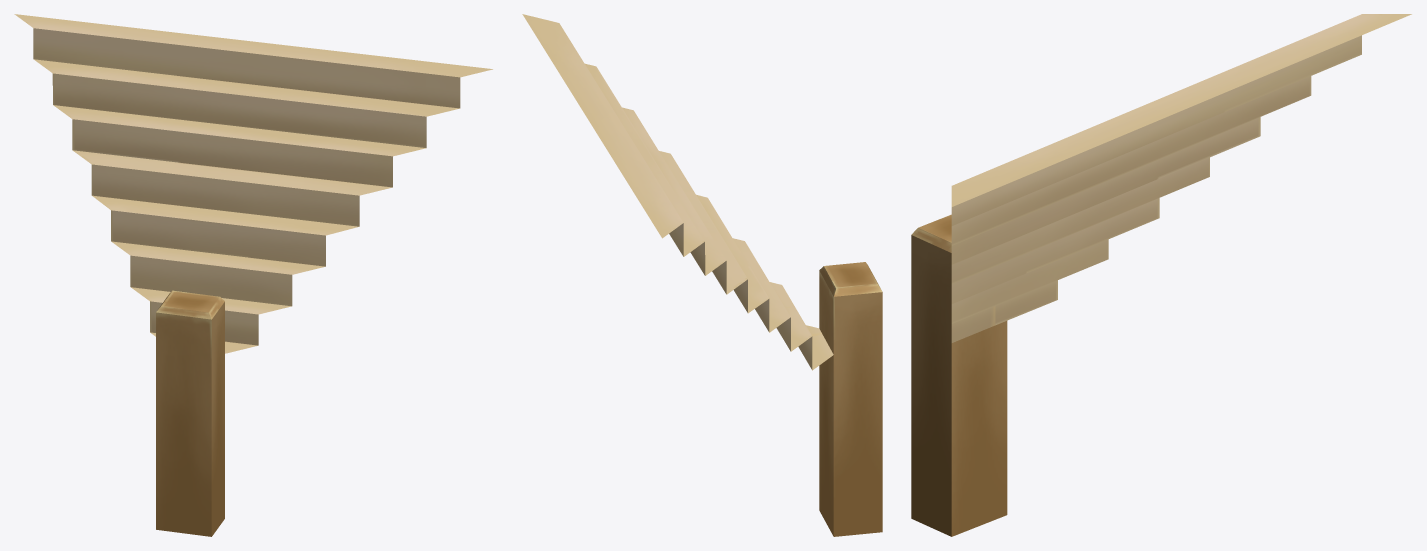
The model's file is Gincana_SeatsCorner.fbx.
3 renders of one model, left to right at view 1: azimuth 30°, elevation 25°; view 2: azimuth 150°, elevation 25°; view 3: azimuth 270°, elevation 25°, orthographic. The views are drawn at different scales.
Visible parts, largest first — view 1: Gincana_SeatsCorner; view 2: Gincana_SeatsCorner; view 3: Gincana_SeatsCorner.
Part boxes in pixels (box(x1,y1,x2,y2)): Gincana_SeatsCorner: box(14, 14, 492, 536); Gincana_SeatsCorner: box(522, 14, 882, 536); Gincana_SeatsCorner: box(911, 14, 1411, 536).
Bounding box in the file's own units: 1464 × 1616 × 1466.
Materials: 1 (1 with a texture image).
